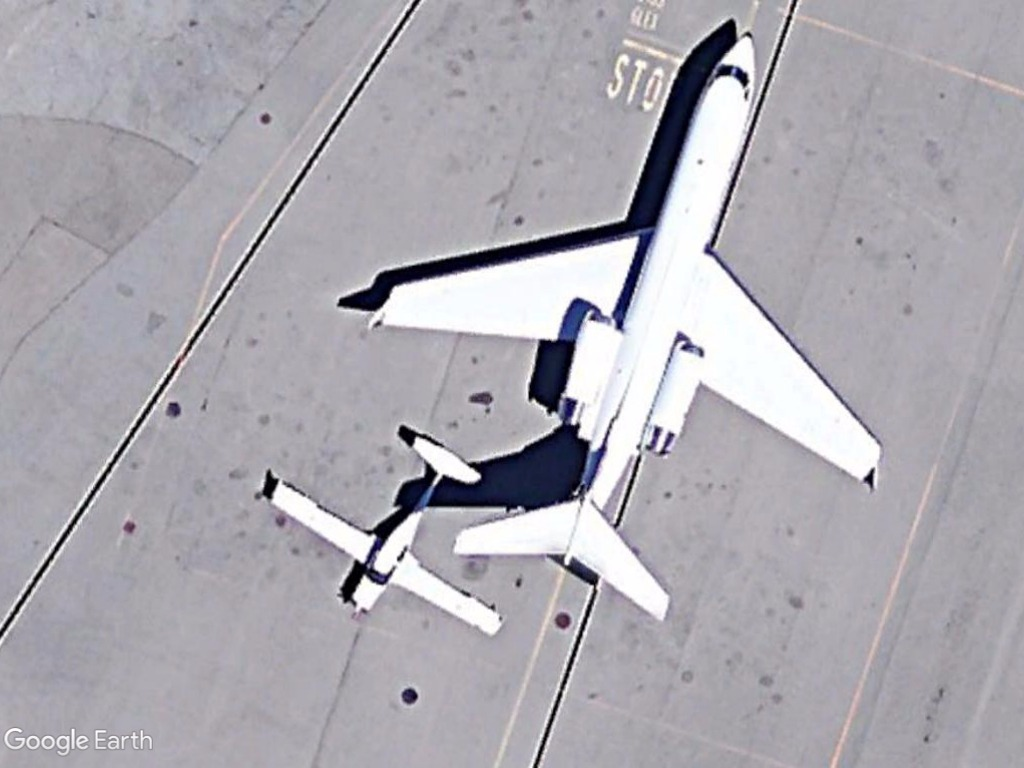chartered: (360, 24, 888, 633)
trainer: (251, 409, 510, 643)
